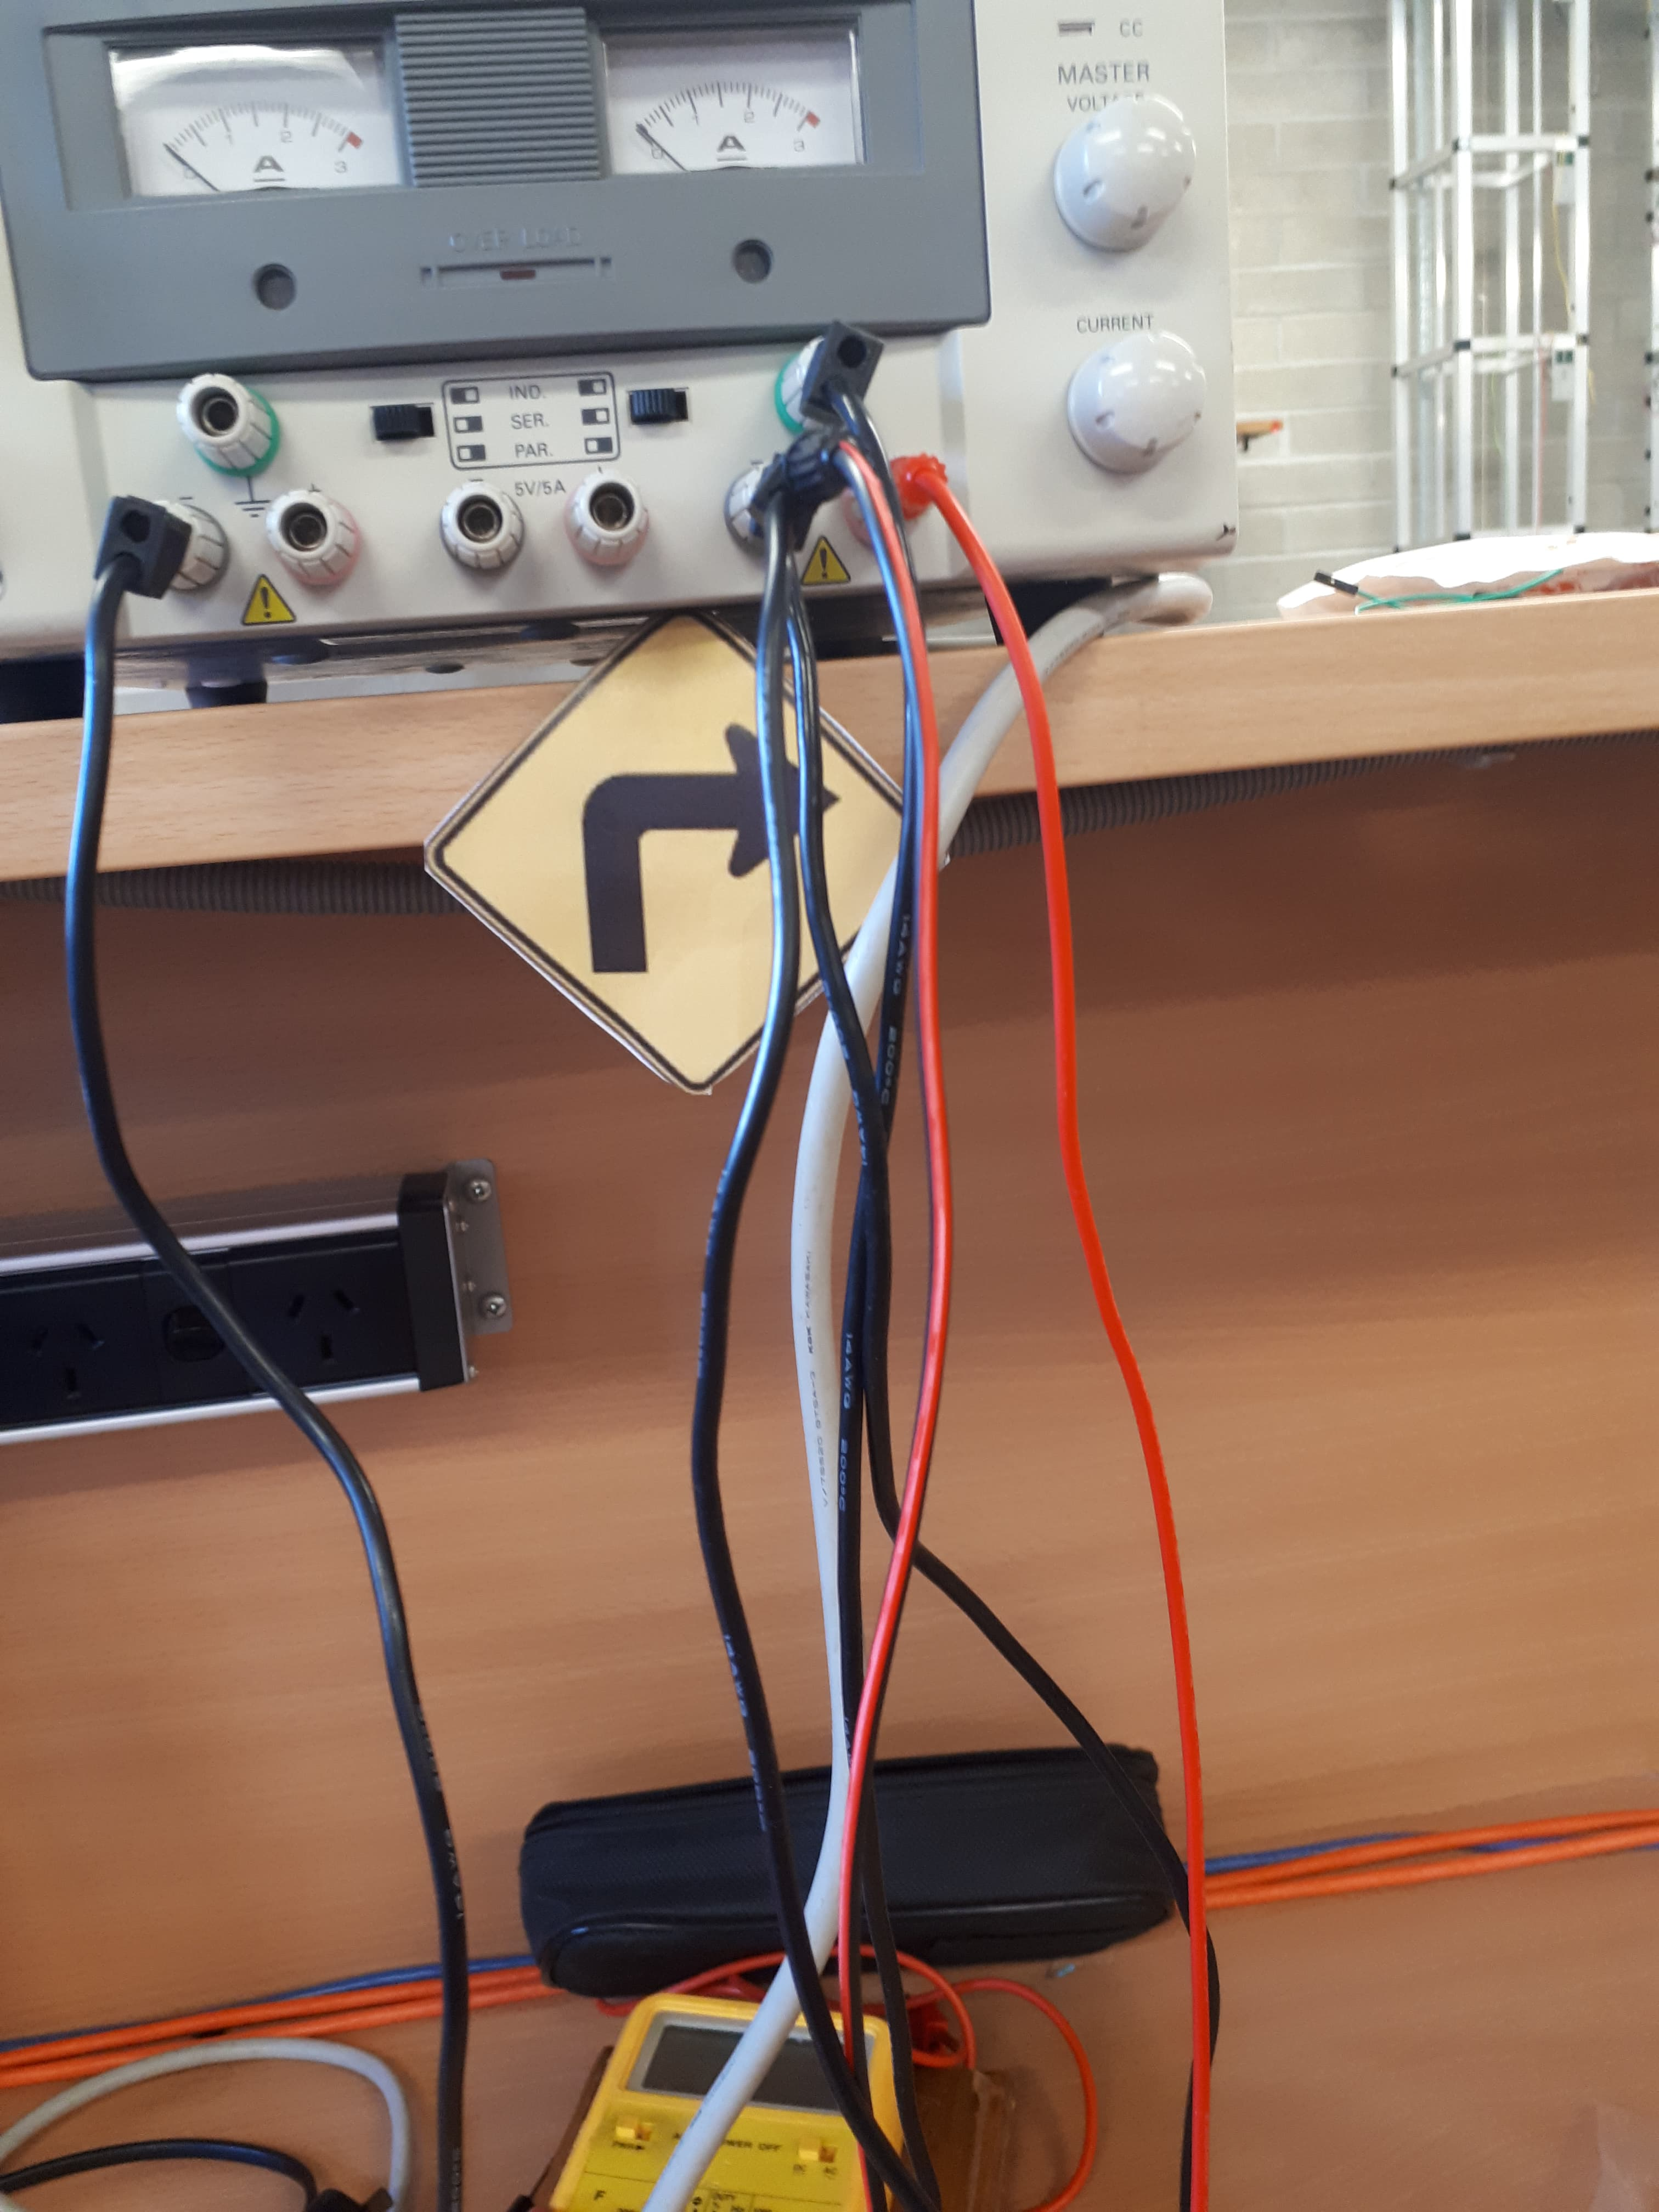right: (486, 596, 1044, 1099), (563, 672, 976, 1071), (669, 657, 1068, 1022)
